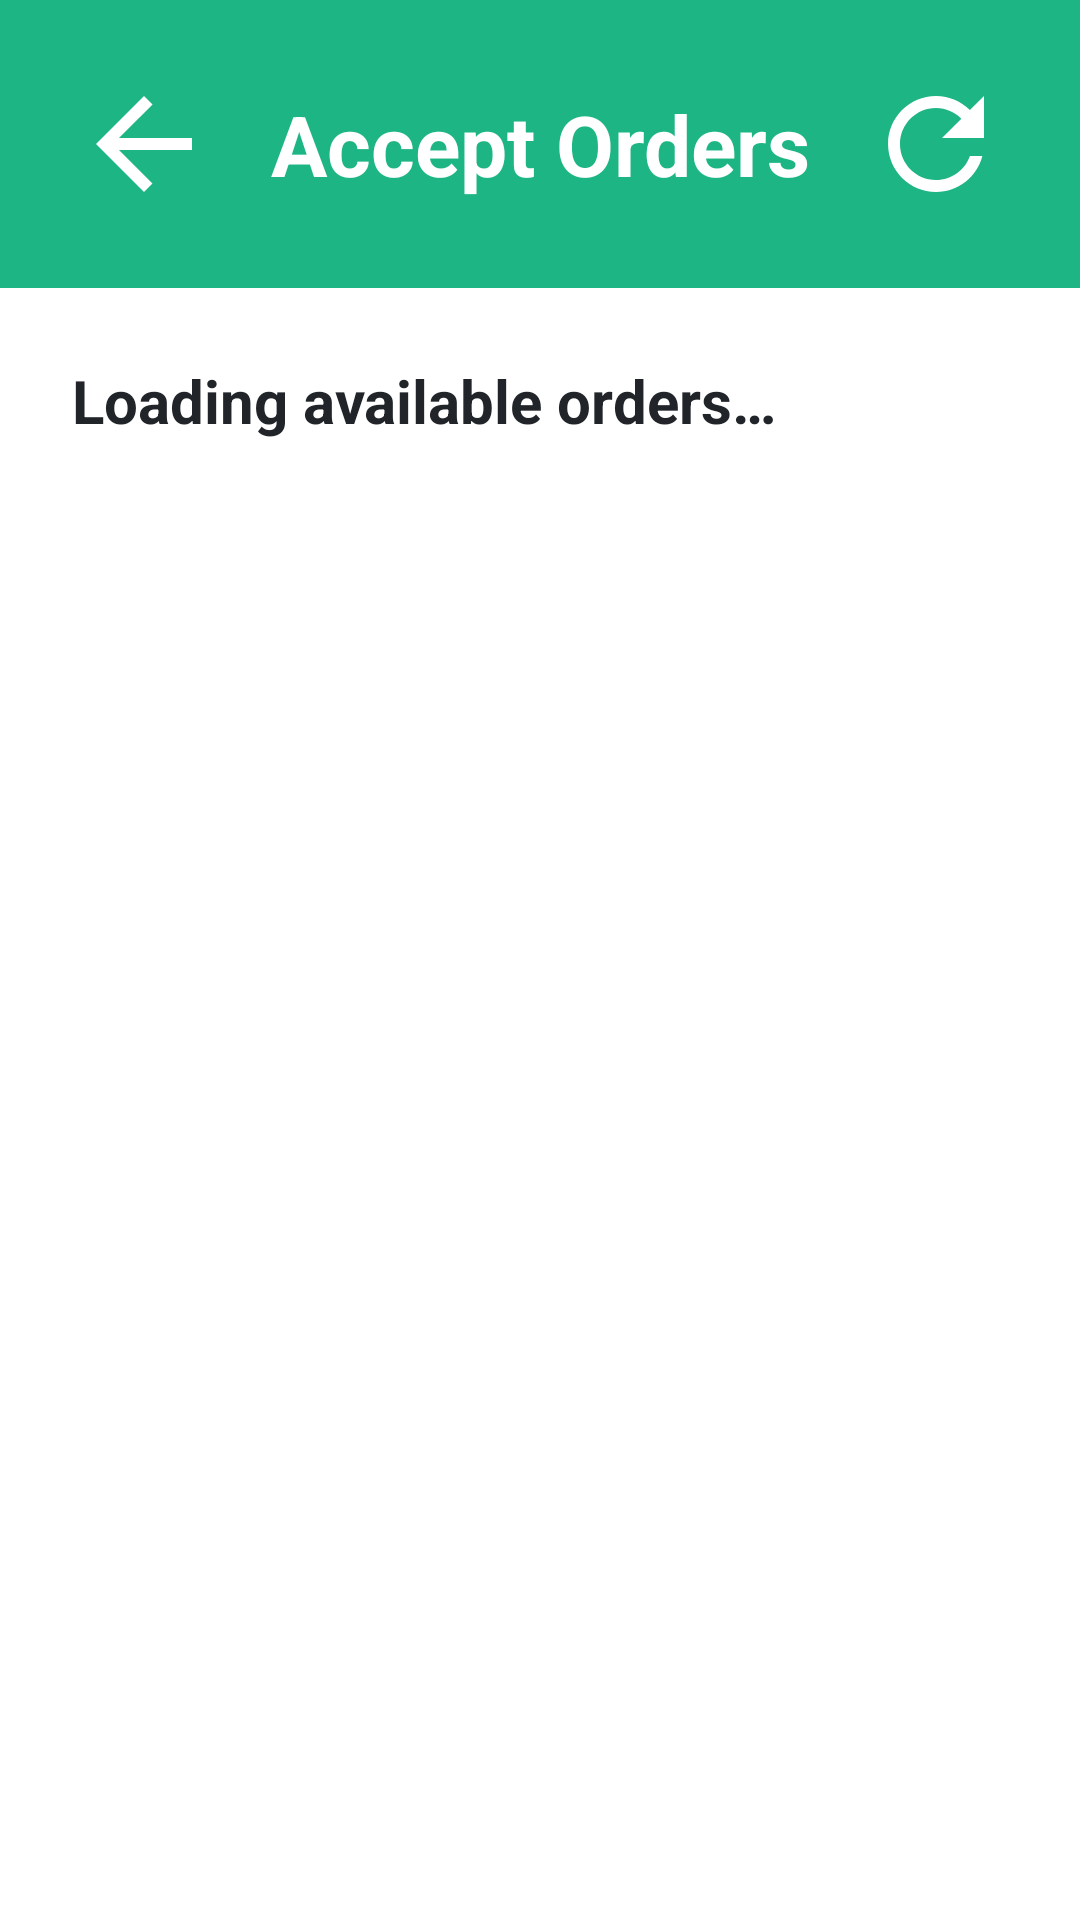

Screen size 1080px×1920px. Icon name, then its center in pixels as (x,y):
Back: (144,144)
Refresh: (936,144)
